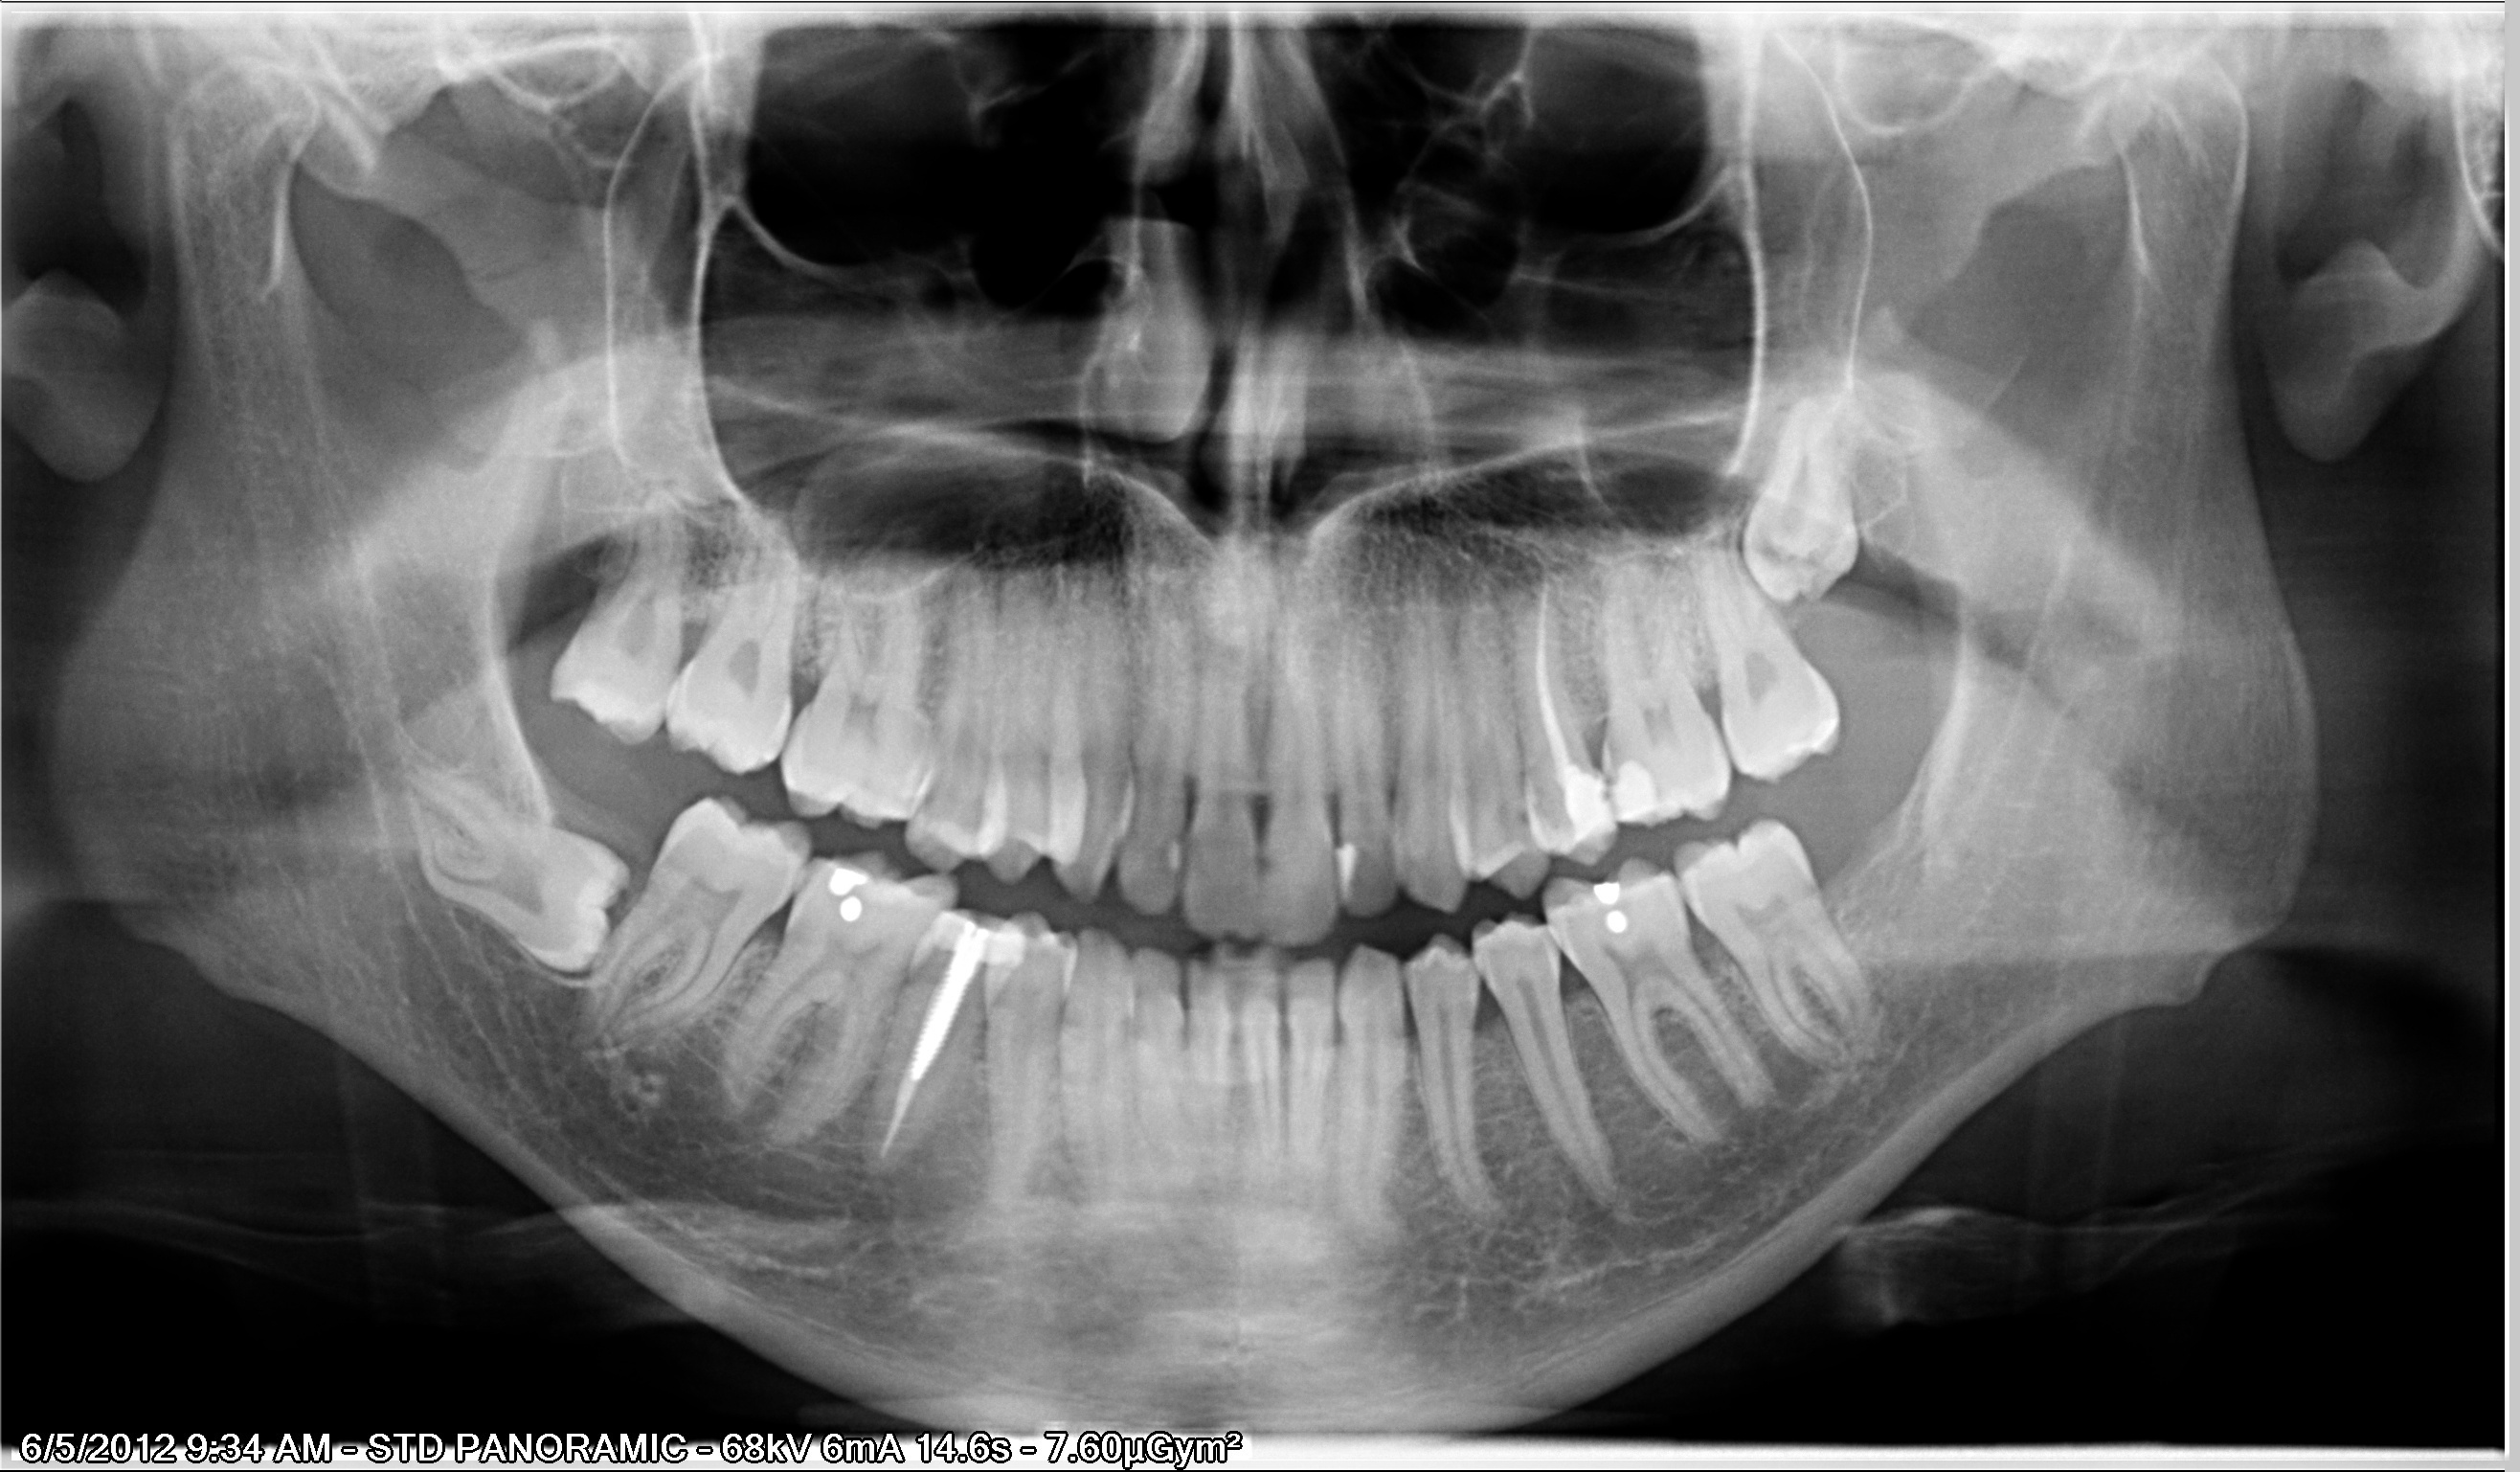CAR: (623, 410, 1895, 1293)
END: (750, 202, 2322, 974)
IMT: (813, 96, 2520, 701)
OBT: (578, 403, 1758, 1274)
